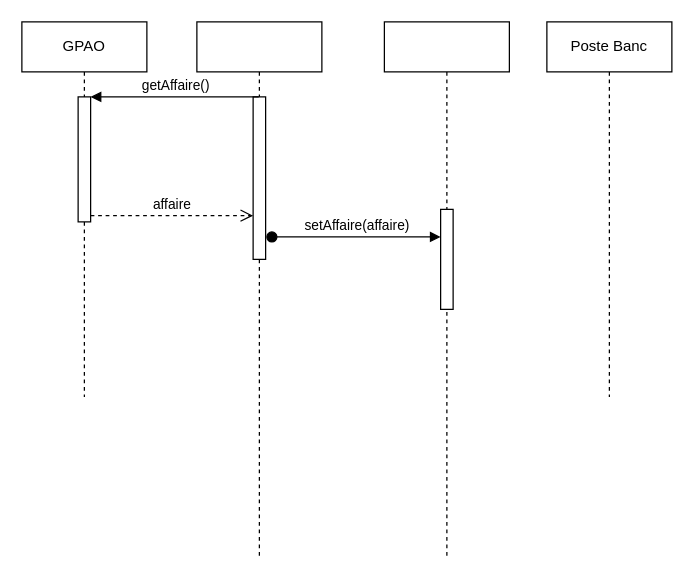
Image size: 694x581. Some labels were removed from this diagram. The box of each missing label's shape, as (x1, y1, x2, y2) in pixels:
BDD: (383, 21, 509, 559)
Controlleur: (196, 21, 322, 559)
